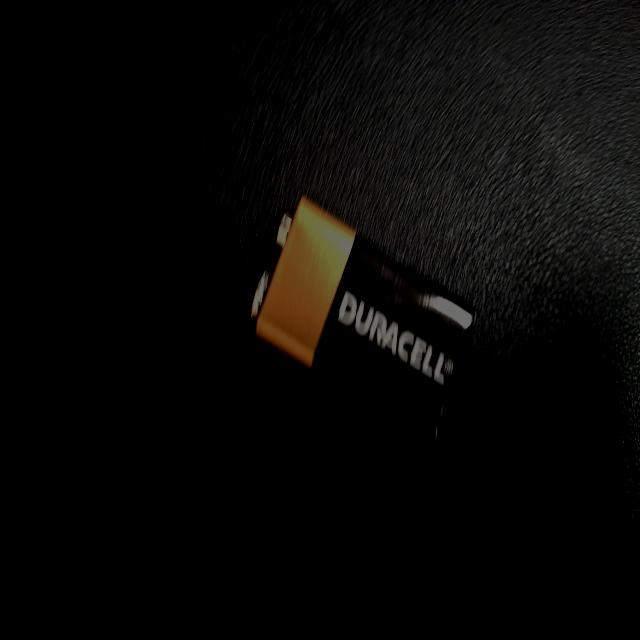9V: (144, 222, 334, 518)
